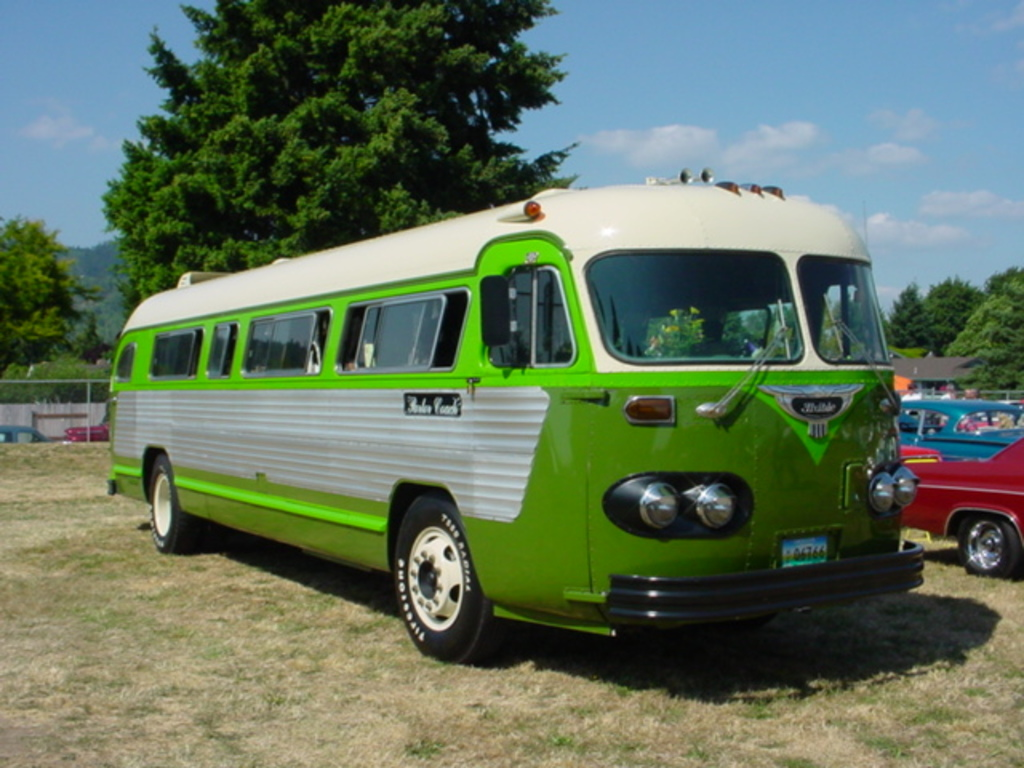Bus: (106, 166, 924, 664)
